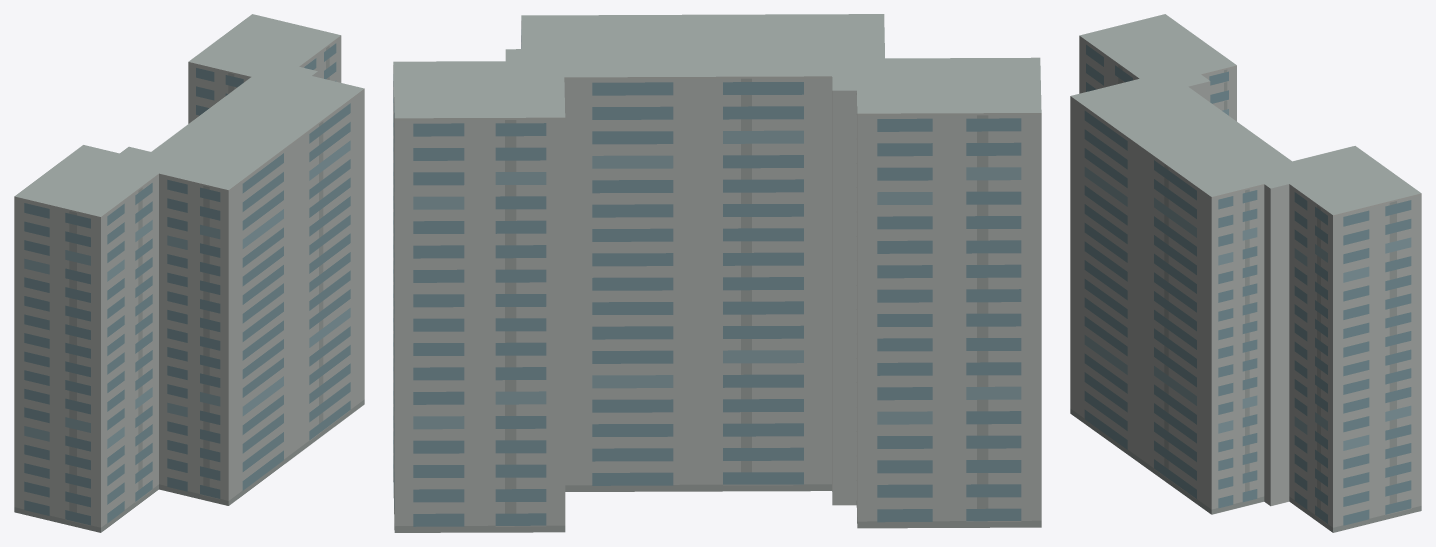
Rendered from residential-f2b1aeb8-3a3b-4bd9-bd9c-1e8d74cfd3a6.glb.
3 renders of one model, left to right at view 1: azimuth 30°, elevation 25°; view 2: azimuth 150°, elevation 25°; view 3: azimuth 270°, elevation 25°, orthographic. The views are drawn at different scales.
Visible parts, largest first — view 1: residential-f2b1aeb8-3a3b-4bd9-bd9c-1e8d74cfd3a6.tmp; view 2: residential-f2b1aeb8-3a3b-4bd9-bd9c-1e8d74cfd3a6.tmp; view 3: residential-f2b1aeb8-3a3b-4bd9-bd9c-1e8d74cfd3a6.tmp.
Boxes of the visible parts, left/top/right/bottom form: residential-f2b1aeb8-3a3b-4bd9-bd9c-1e8d74cfd3a6.tmp: left=14, top=14, right=364, bottom=532; residential-f2b1aeb8-3a3b-4bd9-bd9c-1e8d74cfd3a6.tmp: left=393, top=14, right=1041, bottom=532; residential-f2b1aeb8-3a3b-4bd9-bd9c-1e8d74cfd3a6.tmp: left=1070, top=14, right=1421, bottom=532.
Size of the model in its own units: 66.62 by 49 by 49.11.
